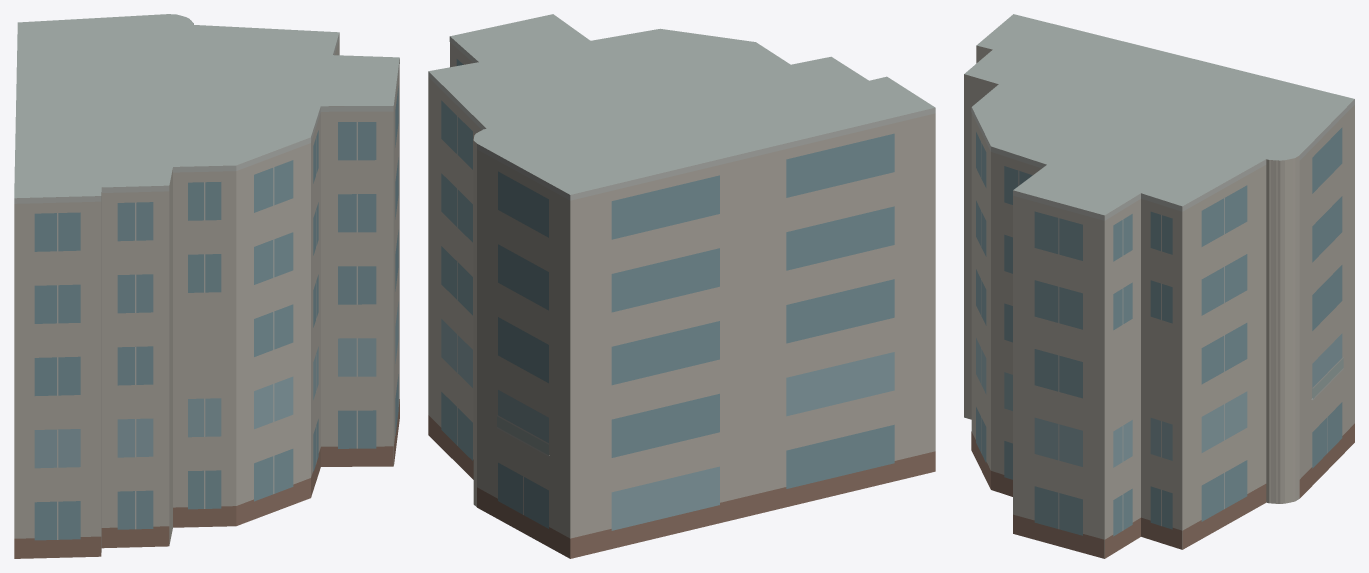
Rendered from survey-upis-32629442.glb.
3 renders of one model, left to right at view 1: azimuth 30°, elevation 25°; view 2: azimuth 150°, elevation 25°; view 3: azimuth 270°, elevation 25°, orthographic. The views are drawn at different scales.
Visible parts, largest first — view 1: survey-upis-32629442.tmp; view 2: survey-upis-32629442.tmp; view 3: survey-upis-32629442.tmp.
Part boxes in pixels (x1,y1,x2,y2): survey-upis-32629442.tmp: [14, 14, 399, 558]; survey-upis-32629442.tmp: [428, 14, 935, 558]; survey-upis-32629442.tmp: [964, 14, 1354, 558].
Size of the model in its own units: 19.44 by 15.45 by 15.94.
